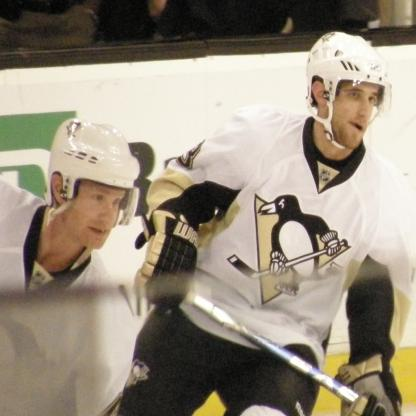Helmet: (47, 119, 140, 250), (303, 32, 392, 151)
